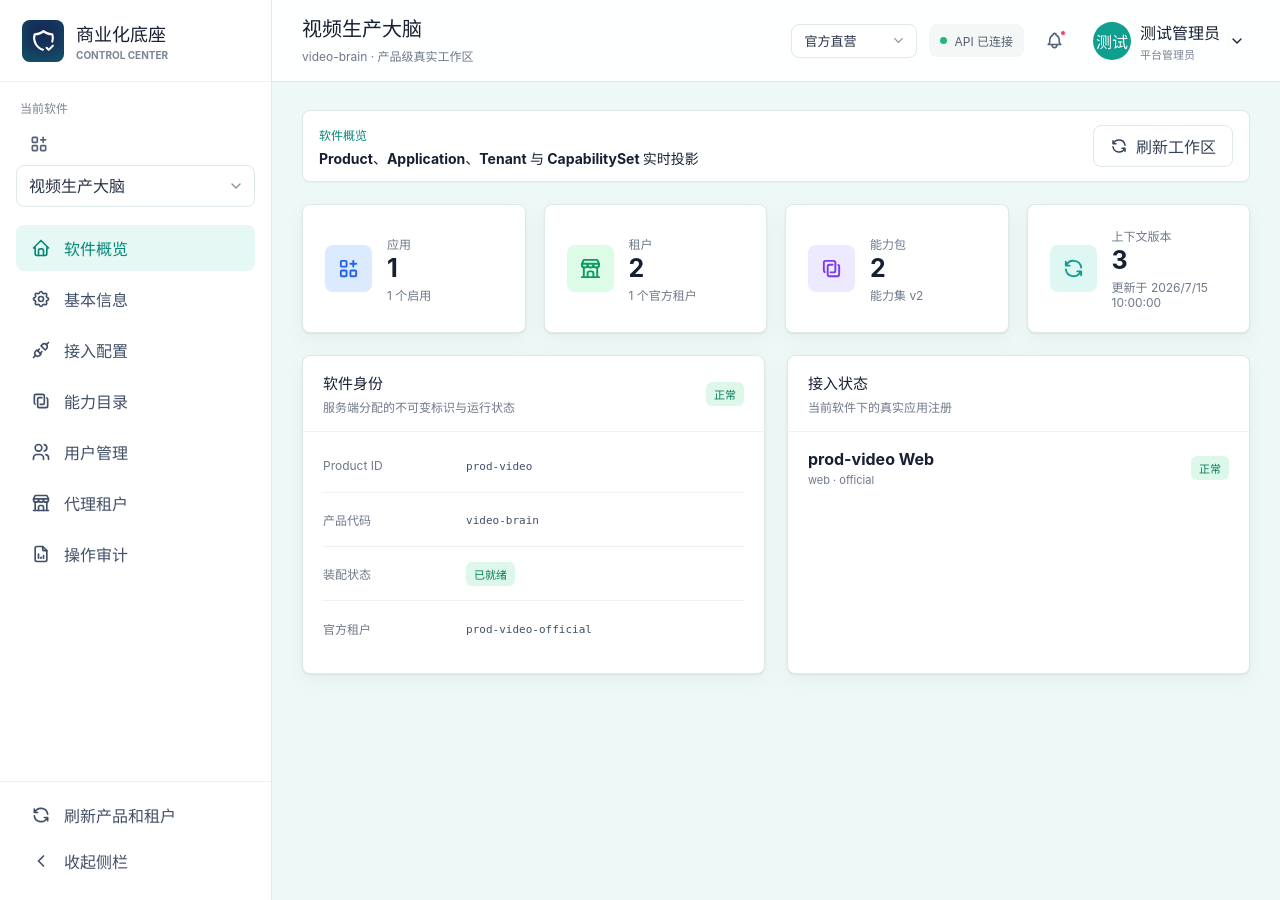
Test: 真实单款软件工作区 › 切换 Product 会更新路由并重新加载 Product 作用域投影
The image size is (1280, 900).
Expected: the heading "视频生产大脑" is shown, [302,17,422,41]
Select "智能文案工坊" in the dropdown labelled "当前软件" at (136, 186), box [16,165,255,207]
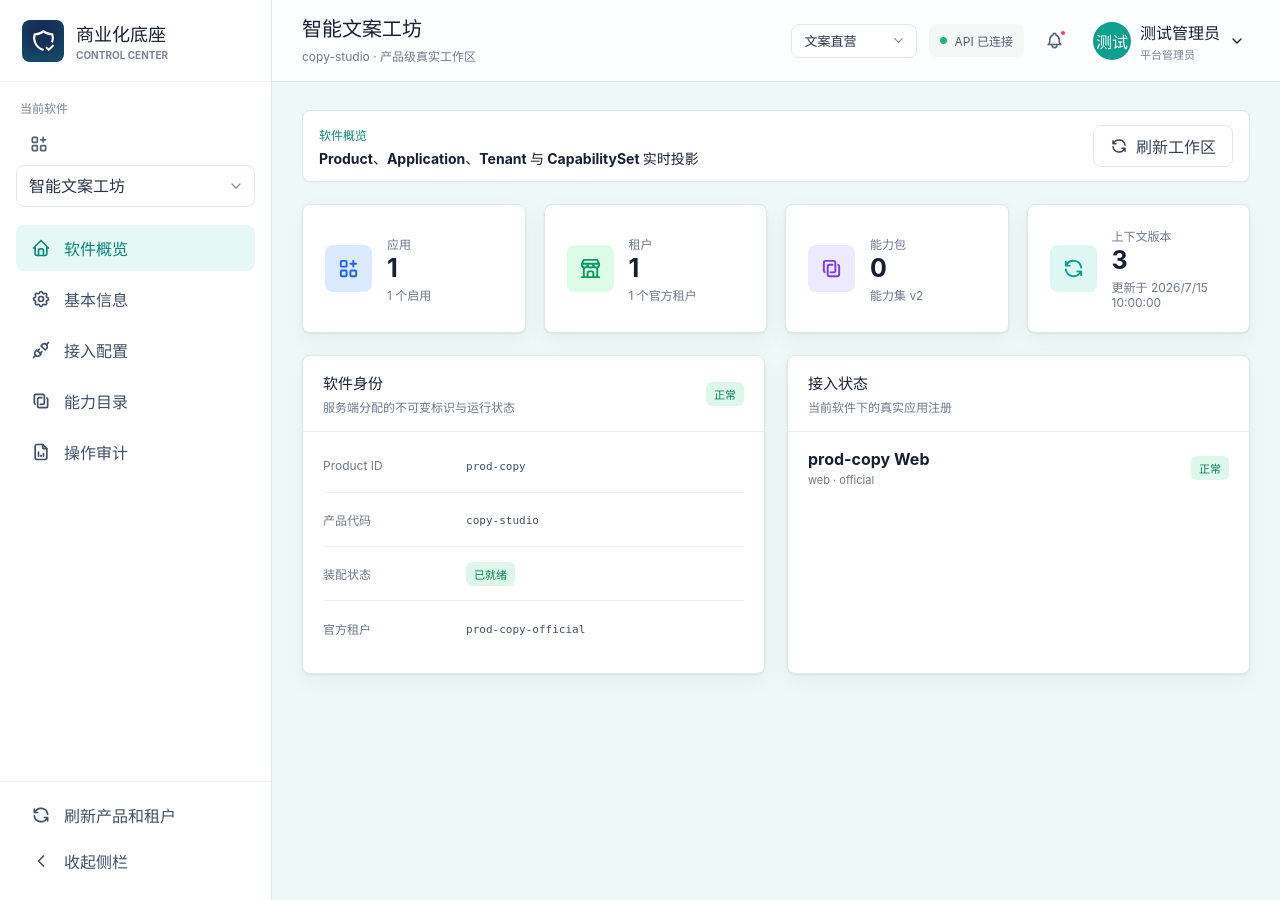
Now the heading "智能文案工坊" is shown, box [302,17,422,41]
Now the text "prod-copy Web" is shown, box [808,449,930,469]
